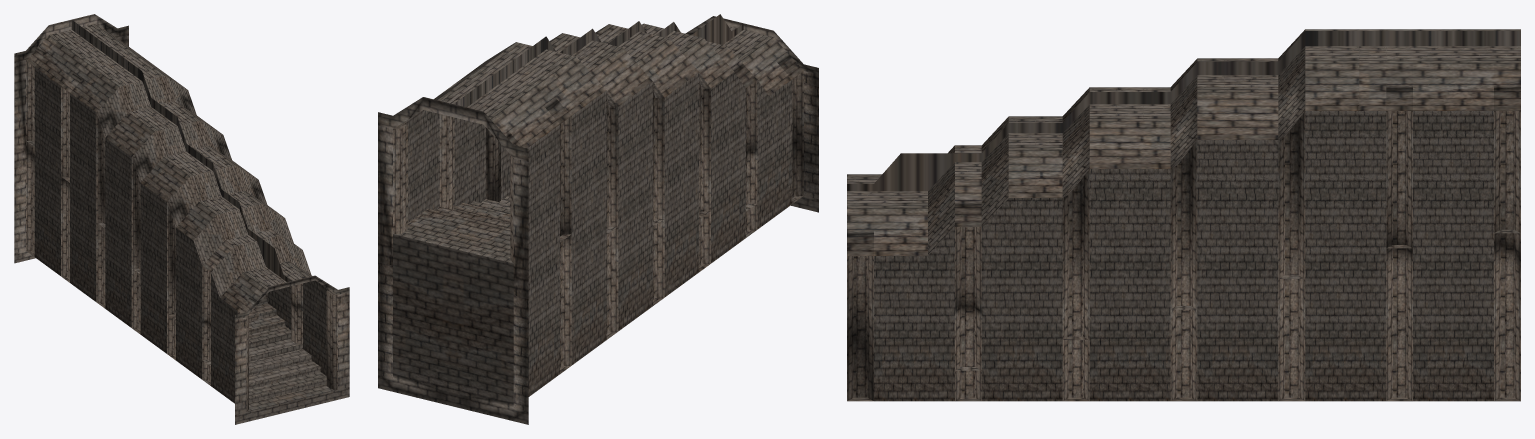
The model's file is Dungeon_Kaidan.FBX.
3 views of the same model, side by side, from view 1: azimuth 30°, elevation 25°; view 2: azimuth 150°, elevation 25°; view 3: azimuth 270°, elevation 25° (orthographic). The views are drawn at different scales.
Parts seen in each view (by area): view 1: Staircase_1; view 2: Staircase_1; view 3: Staircase_1.
Part boxes in pixels (left/top/right/bottom): Staircase_1: left=14, top=14, right=349, bottom=424; Staircase_1: left=378, top=14, right=818, bottom=424; Staircase_1: left=847, top=29, right=1520, bottom=401.
Size of the model in its own units: 6 by 11.5 by 20.
